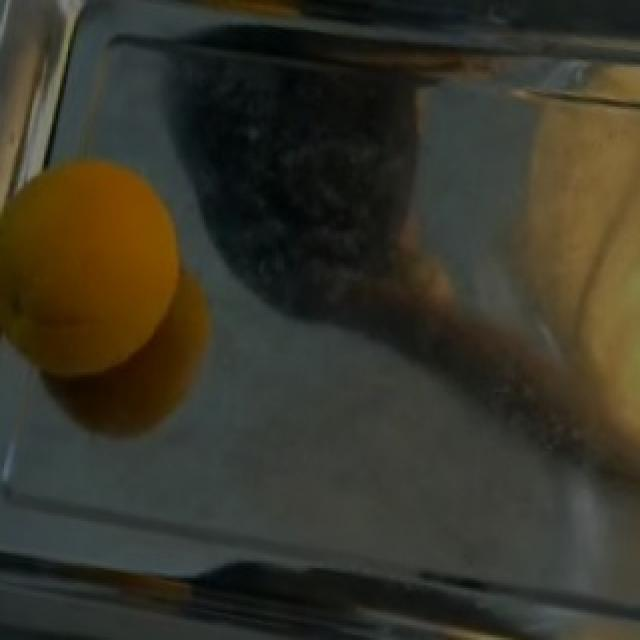Fruit: (2, 134, 204, 404)
